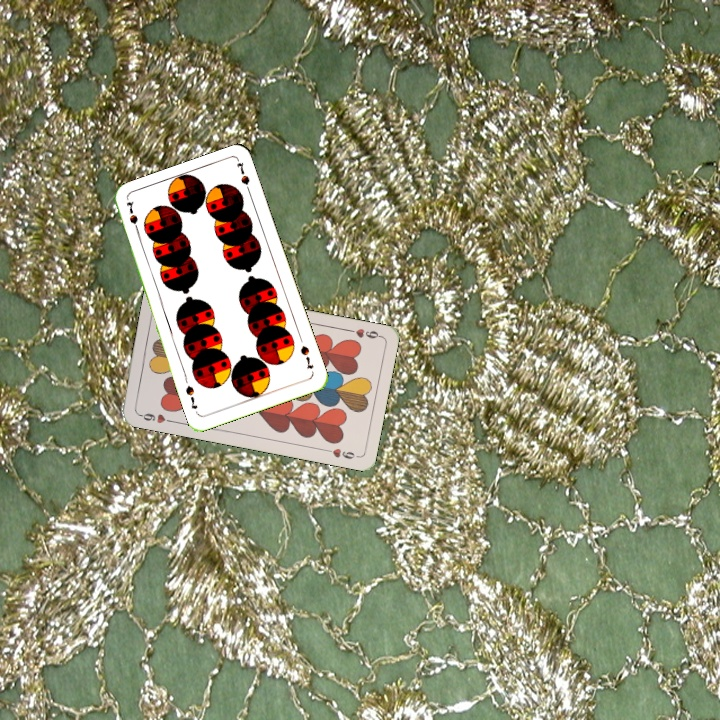H9: (343, 324, 383, 341), (135, 409, 175, 426)
S7: (122, 198, 142, 237), (296, 342, 316, 371)
